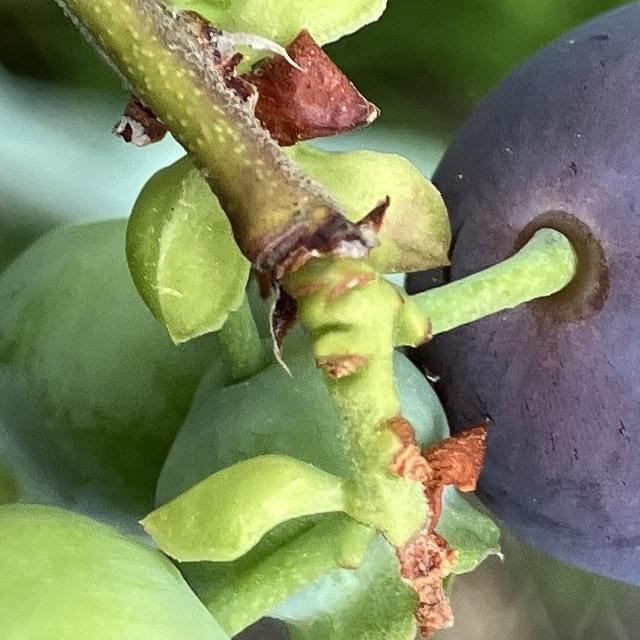Blueberries: (408, 0, 640, 591)
